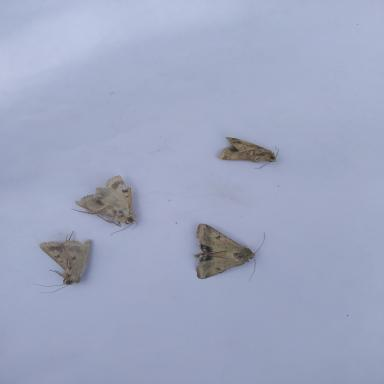abw: (69, 174, 138, 236), (194, 222, 266, 280), (31, 230, 92, 295), (216, 136, 280, 170)
